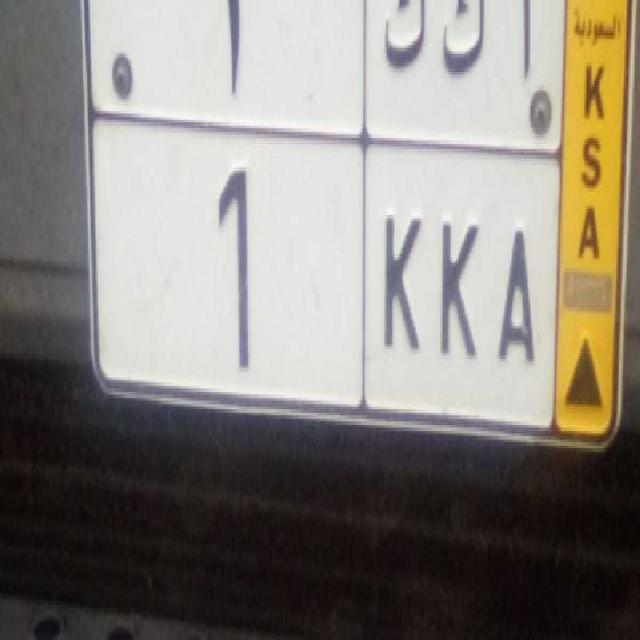license_plate: (92, 118, 558, 430)
